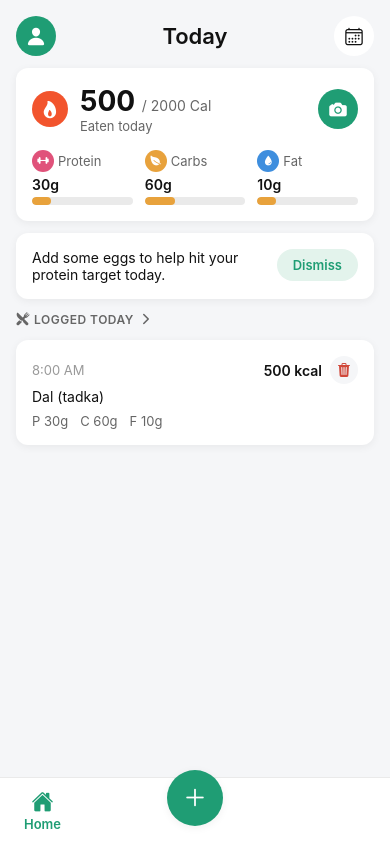
DashboardScreen › shows a repeated-dismissal prompt when the backend suggests one
The width and height of the screenshot is (390, 844).
Check: the element with test id "recommendation-card" is shown, box [16, 233, 374, 299]
Click the element with test id "dismiss-recommendation-button" at (317, 265), box [277, 249, 358, 281]
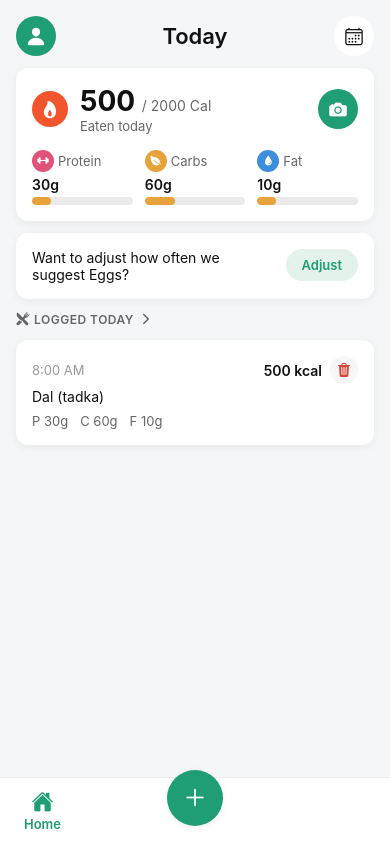
Check: the element with test id "frequency-prompt" is shown, box [16, 233, 374, 299]
